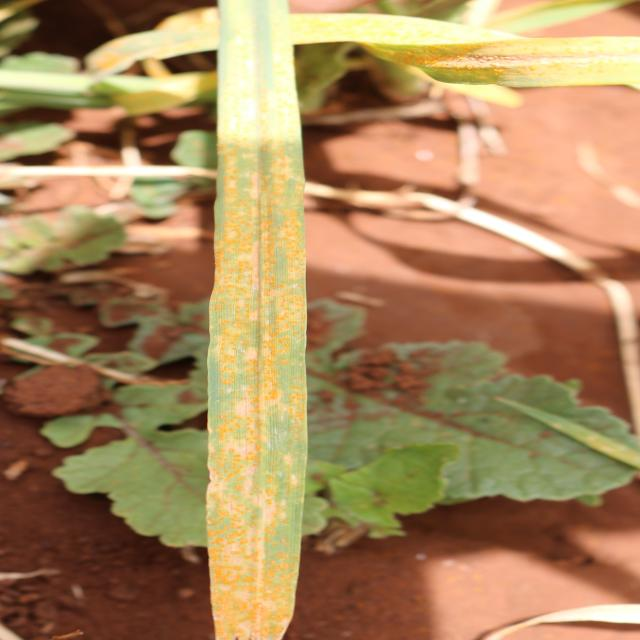Stripe Rust: (211, 141, 299, 640), (390, 48, 622, 76)
